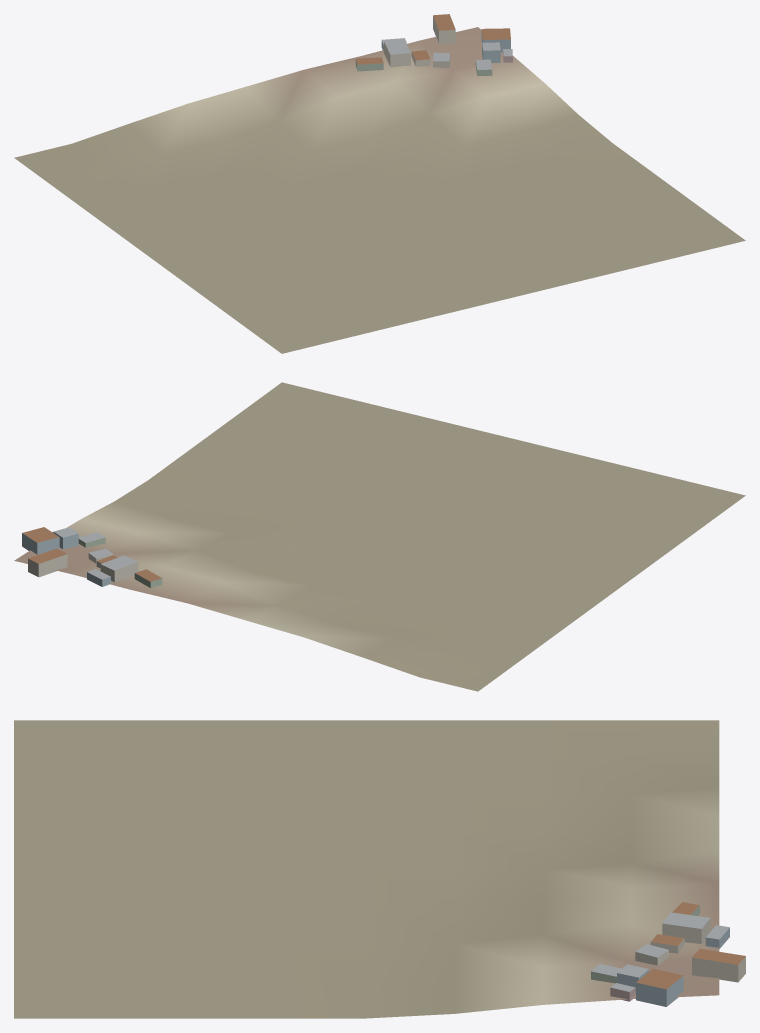
The picture shows the model from 3 angles, top to bottom: view 1: azimuth 30°, elevation 25°; view 2: azimuth 150°, elevation 25°; view 3: azimuth 270°, elevation 25°; orthographic projection. The views are drawn at different scales.
Parts seen in each view (by area): view 1: Lo; view 2: Lo; view 3: Lo.
Boxes of the visible parts, x1=… form: Lo: x1=14, y1=14, x2=745, y2=353; Lo: x1=14, y1=382, x2=745, y2=691; Lo: x1=14, y1=720, x2=745, y2=1018.
Size of the model in its own units: 263 by 16.04 by 266.
